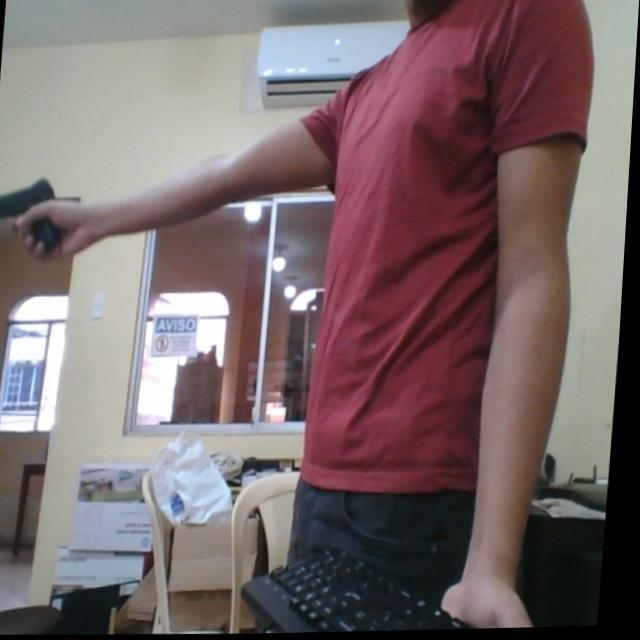weapon: (0, 173, 83, 256)
